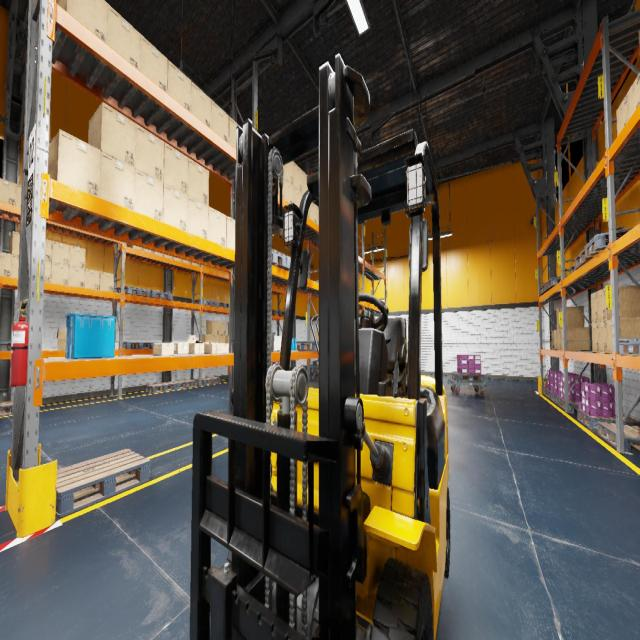box: (48, 129, 101, 197), (88, 102, 136, 168), (56, 0, 107, 43), (107, 4, 140, 70), (100, 151, 134, 210), (135, 124, 164, 182), (140, 34, 168, 92), (597, 285, 640, 321), (134, 169, 163, 222), (164, 142, 188, 195), (167, 60, 191, 112), (162, 184, 188, 231), (606, 318, 640, 353), (188, 157, 209, 205), (191, 81, 211, 128), (188, 196, 208, 240), (211, 99, 229, 143), (208, 206, 226, 246), (560, 327, 590, 350), (556, 306, 584, 329), (627, 72, 640, 119), (616, 93, 628, 136), (228, 116, 242, 149), (51, 241, 70, 265), (0, 178, 16, 205), (50, 263, 68, 285), (68, 266, 85, 288), (69, 245, 85, 268), (84, 268, 100, 290), (186, 336, 204, 354), (598, 321, 608, 353), (226, 216, 235, 250), (99, 272, 114, 292), (0, 252, 12, 277), (293, 161, 302, 192), (9, 231, 20, 256), (153, 343, 174, 355), (592, 322, 600, 352), (284, 177, 293, 203), (591, 291, 598, 322), (56, 329, 66, 350), (284, 161, 293, 184), (204, 342, 221, 353), (294, 185, 302, 208), (11, 255, 19, 278), (170, 343, 188, 353), (302, 193, 309, 218), (206, 321, 219, 334), (44, 260, 51, 282), (45, 240, 52, 262), (302, 170, 308, 194), (278, 176, 284, 199), (310, 202, 316, 223), (127, 243, 144, 250), (16, 184, 21, 207), (199, 334, 212, 342), (557, 329, 561, 350), (220, 343, 228, 353), (219, 321, 225, 334), (550, 331, 554, 349), (638, 29, 640, 63), (212, 334, 219, 343), (554, 330, 557, 350), (144, 248, 154, 254), (165, 254, 174, 260), (155, 251, 164, 257), (225, 335, 229, 347), (174, 257, 183, 262), (219, 335, 225, 342), (315, 330, 319, 340), (316, 206, 318, 224), (192, 262, 200, 266), (183, 260, 191, 264), (282, 165, 284, 177), (228, 323, 229, 334)
forklift: (227, 53, 450, 639)
pallets: (56, 449, 150, 518), (584, 228, 633, 259), (577, 408, 640, 431), (598, 422, 640, 451), (574, 249, 602, 270), (558, 396, 582, 412), (619, 338, 640, 356), (144, 382, 177, 393), (118, 286, 150, 297), (545, 276, 568, 290), (452, 372, 484, 382), (168, 380, 198, 390), (291, 341, 319, 351), (272, 249, 286, 268), (274, 256, 291, 271), (119, 342, 154, 349), (150, 290, 172, 300), (195, 377, 221, 385), (0, 401, 13, 416), (194, 300, 218, 306), (0, 341, 11, 350), (539, 283, 547, 295), (544, 387, 552, 399), (550, 392, 558, 404), (214, 302, 228, 308), (272, 310, 284, 316), (569, 264, 576, 274), (369, 298, 379, 302), (380, 300, 385, 306), (312, 360, 318, 365), (272, 309, 276, 314), (271, 406, 272, 410), (228, 375, 228, 379)
